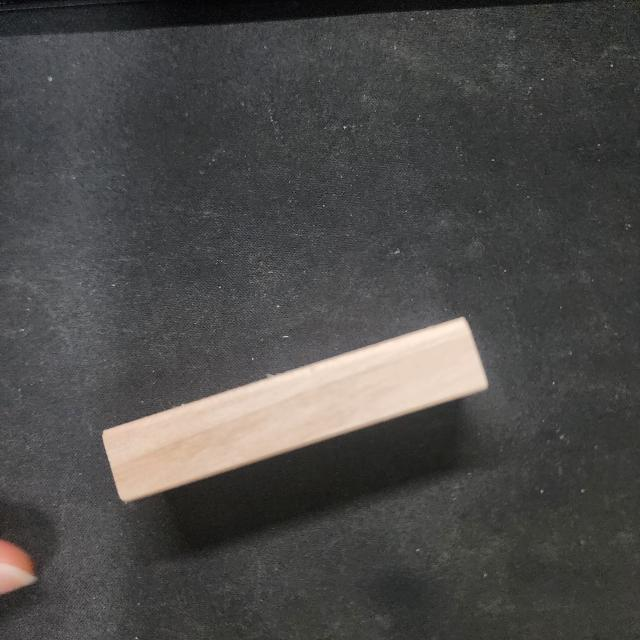wood: (103, 313, 491, 505)
